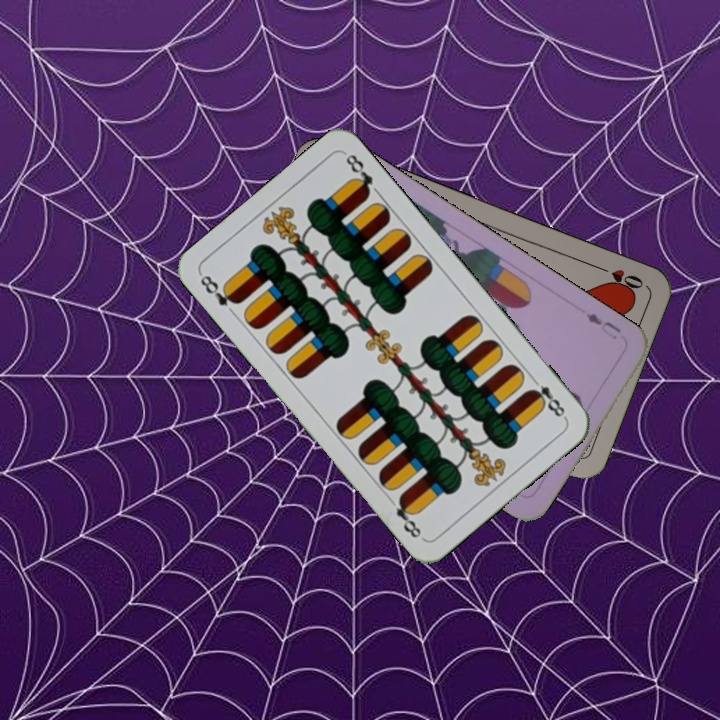E8: (525, 372, 569, 422), (195, 270, 243, 309)
EU: (581, 309, 624, 342)
HO: (590, 261, 646, 295)
